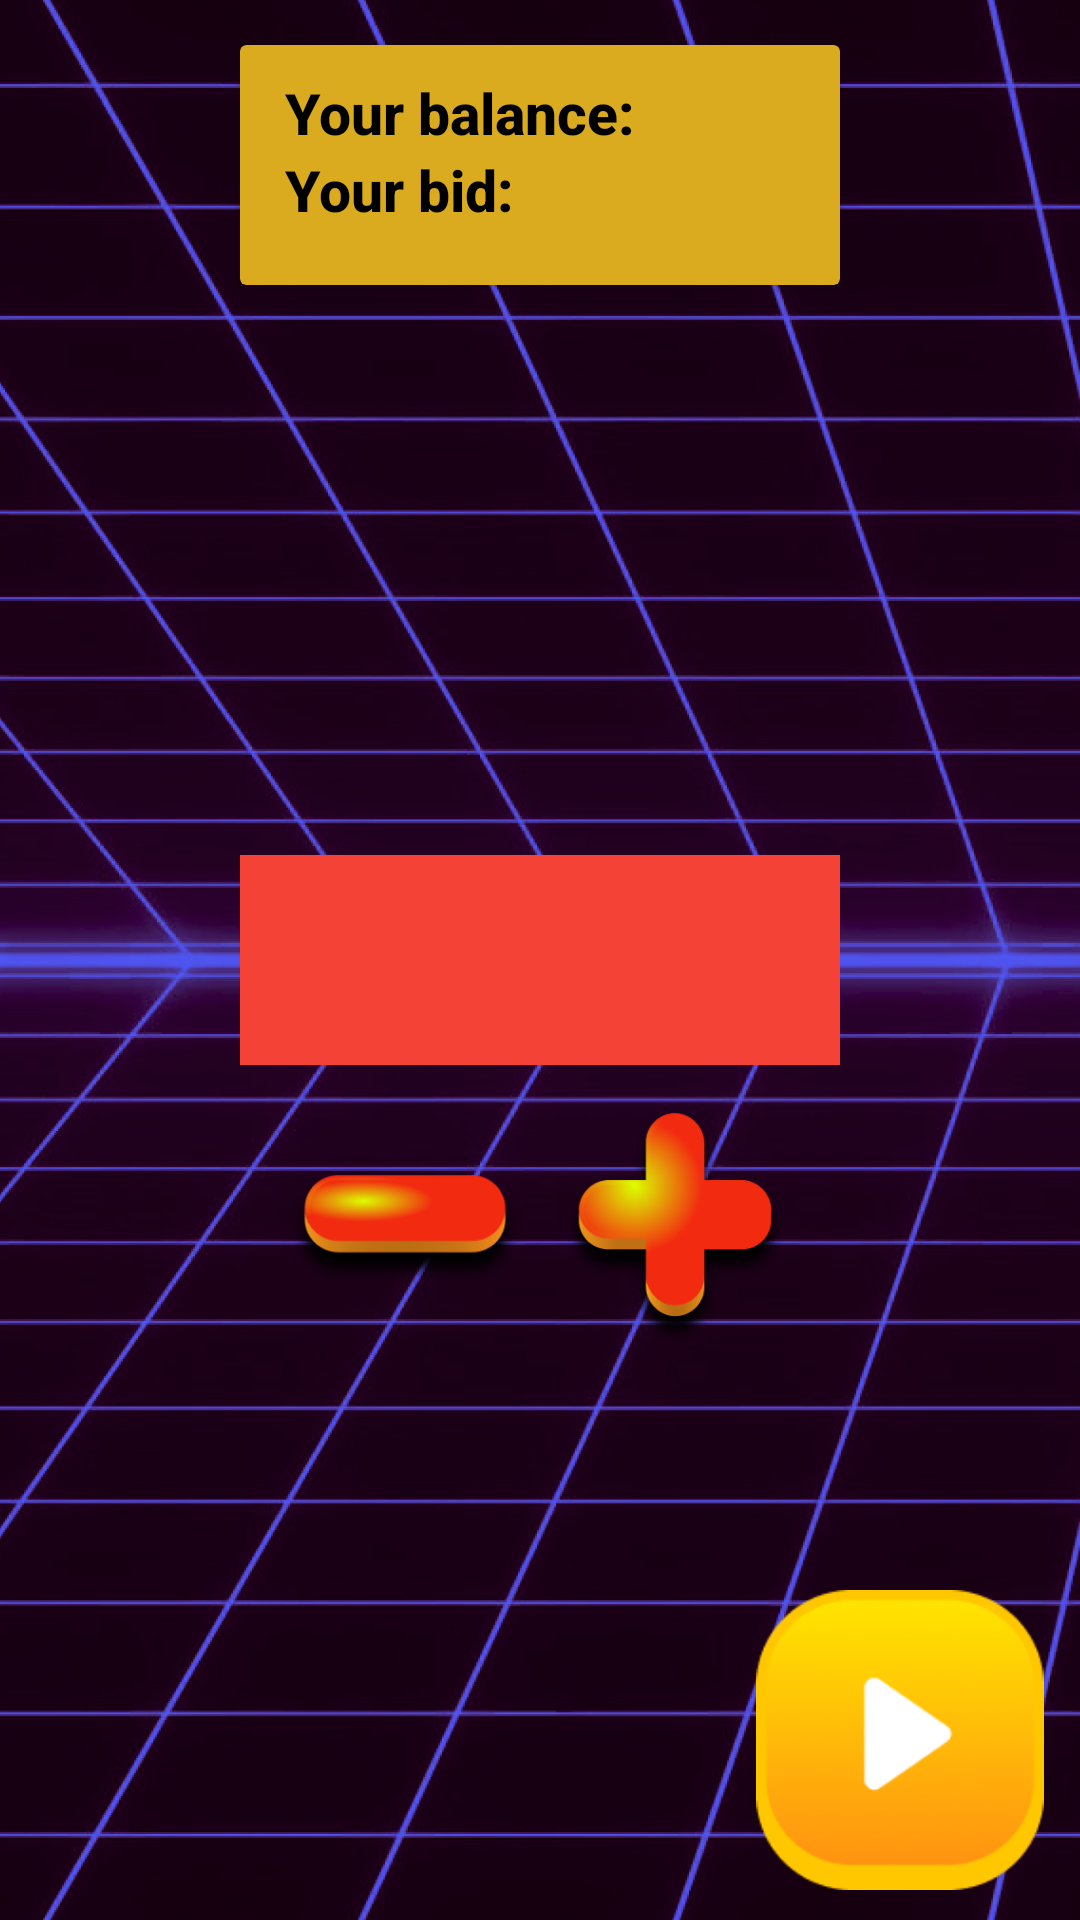

Point at icon controls on the screen. Image size 1080px×1920px, points as (x=x, y=y).
minus: (x=405, y=1230)
plus: (x=675, y=1230)
